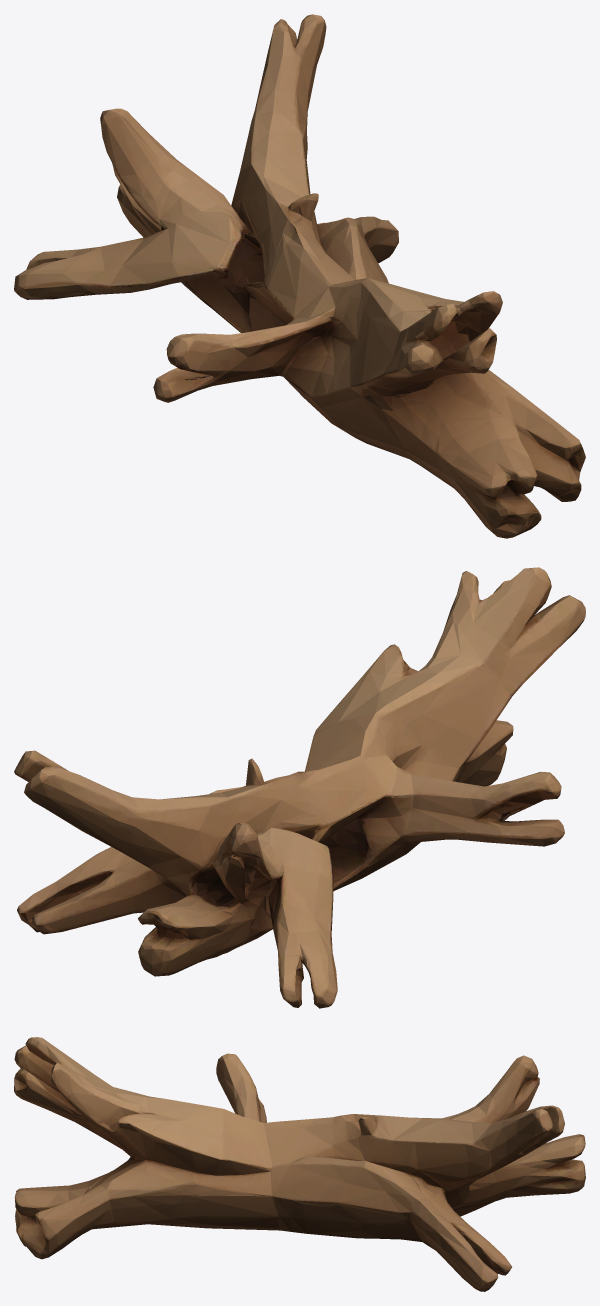
The model's file is fallen_log.glb.
3 renders of one model, top to bottom at view 1: azimuth 30°, elevation 25°; view 2: azimuth 150°, elevation 25°; view 3: azimuth 270°, elevation 25°, orthographic. The views are drawn at different scales.
Visible parts, largest first — view 1: world; view 2: world; view 3: world.
Boxes of the visible parts, box(x1,y1,x2,y2) form: world: box(14, 14, 585, 538); world: box(14, 567, 585, 1008); world: box(14, 1037, 585, 1291).
Size of the model in its own units: 0.627 by 0.3604 by 0.999.
Materials: 1 (1 with a texture image).
